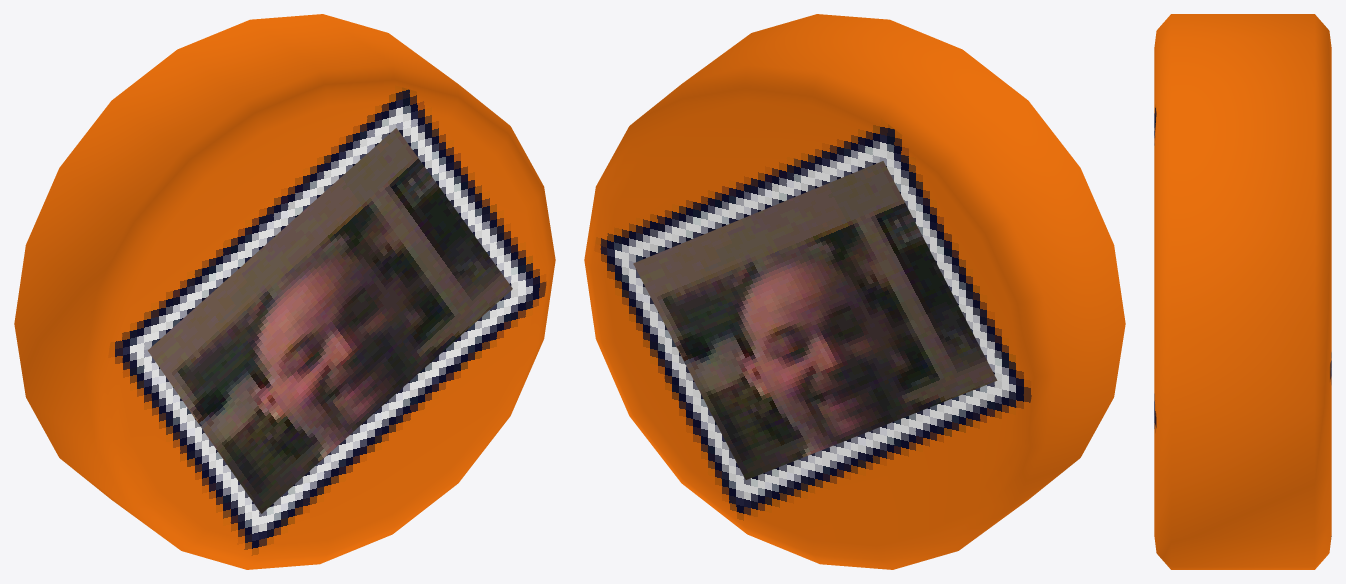
File: ps2_save-icons_eyetoyplaydioprofile.glb
3 views of the same model, side by side, from view 1: azimuth 30°, elevation 25°; view 2: azimuth 150°, elevation 25°; view 3: azimuth 270°, elevation 25° (orthographic). The views are drawn at different scales.
Visible parts, largest first — view 1: cube.ico; view 2: cube.ico; view 3: cube.ico.
Part boxes in pixels (x1,y1,x2,y2): cube.ico: (14,14,555,569); cube.ico: (584,14,1125,569); cube.ico: (1154,14,1331,569).
Bounding box in the file's own units: 4.87 × 4.87 × 1.54.
1 material, 1 textured.
